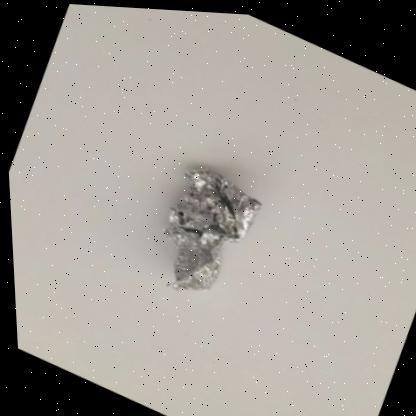Metal: (159, 164, 258, 287)
